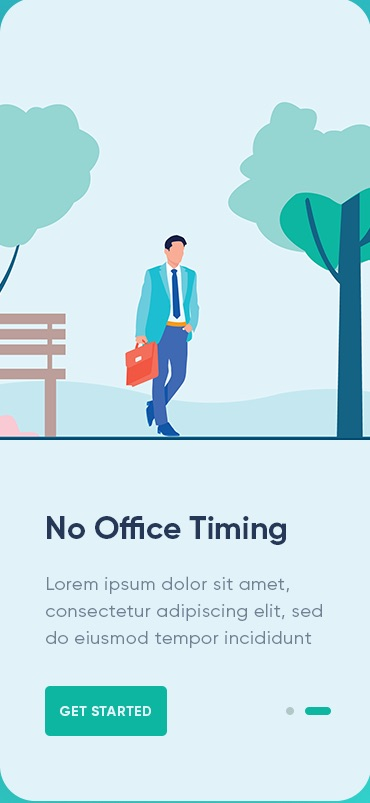Image: (1, 102, 370, 441)
PageIndicator: (285, 706, 332, 716)
Text: (46, 576, 323, 649), (47, 515, 287, 546)
TextButton: (46, 686, 168, 736)
